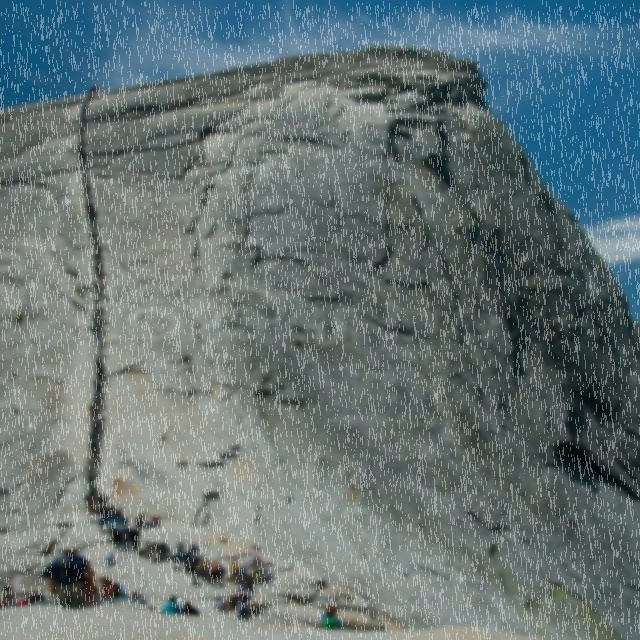pessoa: (76, 82, 122, 514), (208, 554, 275, 600), (47, 546, 95, 610), (109, 530, 173, 564), (174, 540, 209, 587), (0, 584, 45, 610), (95, 514, 162, 530), (96, 574, 119, 606), (320, 604, 344, 630), (83, 576, 100, 608), (161, 596, 185, 614), (234, 600, 251, 622), (47, 573, 59, 604), (122, 590, 146, 604), (180, 601, 202, 616), (323, 610, 339, 630), (114, 584, 126, 602), (212, 596, 227, 610), (222, 598, 237, 612), (105, 552, 116, 562), (241, 598, 251, 606)
